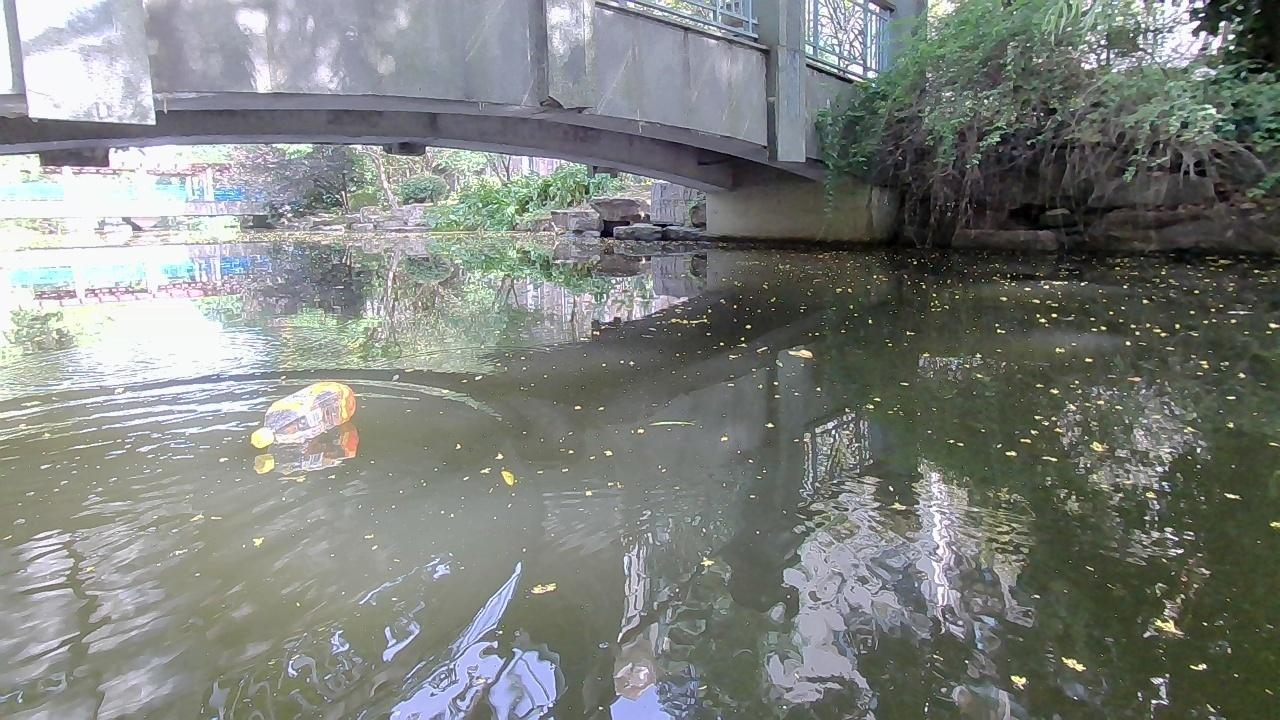bottle: (244, 379, 355, 446)
